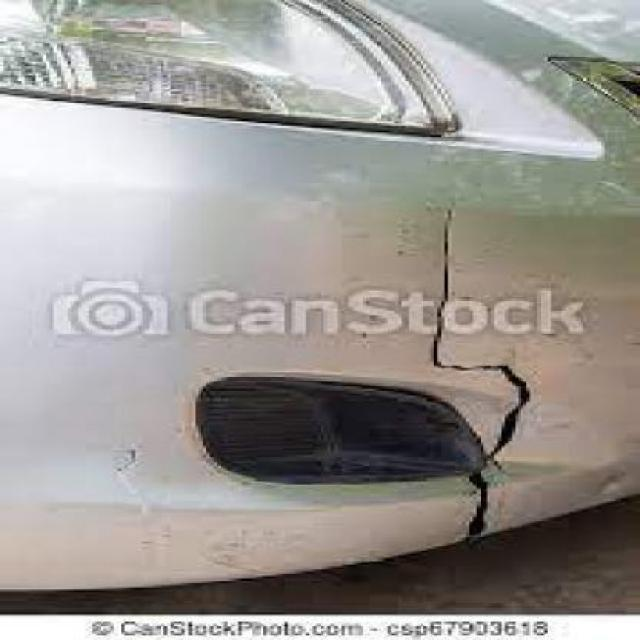damaged-front-bumper: (0, 107, 637, 558)
